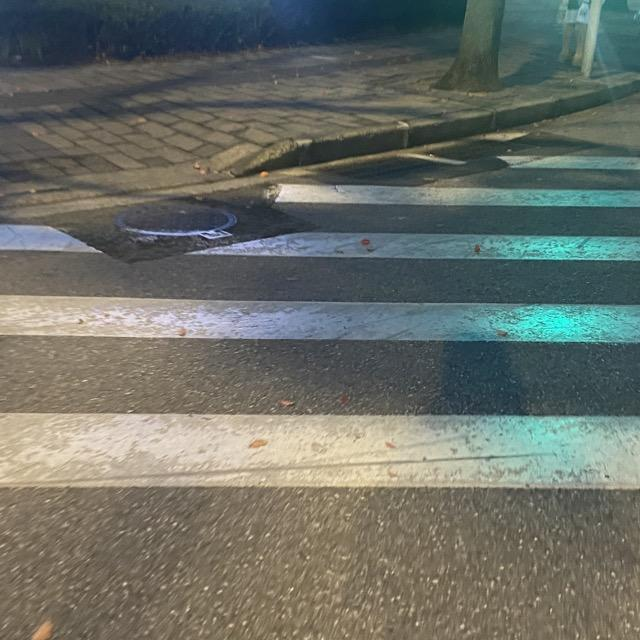curb: (231, 77, 639, 176)
